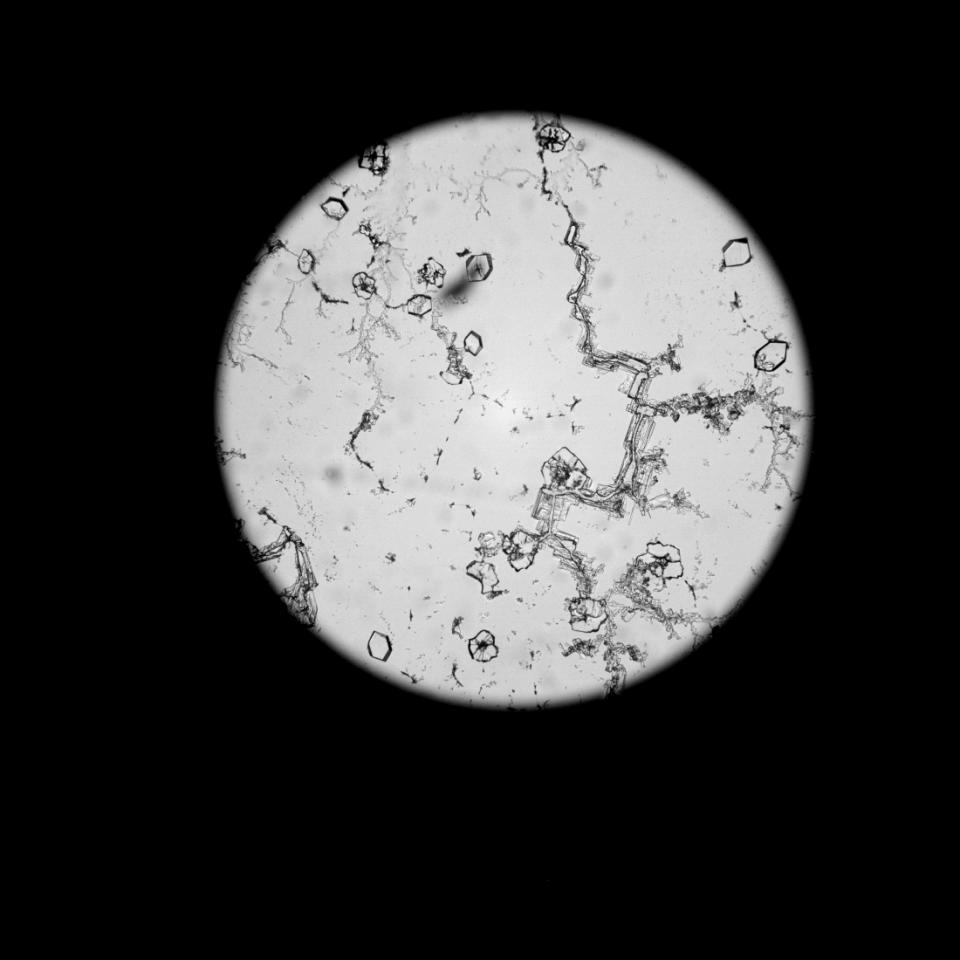crystal: (636, 543, 687, 587), (561, 596, 613, 634), (498, 530, 542, 571), (463, 560, 506, 601), (745, 338, 790, 376), (713, 235, 755, 274), (464, 629, 504, 664), (415, 255, 451, 290), (362, 628, 398, 662), (533, 123, 571, 154), (460, 253, 496, 284), (318, 197, 355, 223), (402, 293, 437, 318), (347, 274, 382, 299), (461, 329, 490, 357), (294, 247, 316, 278)
